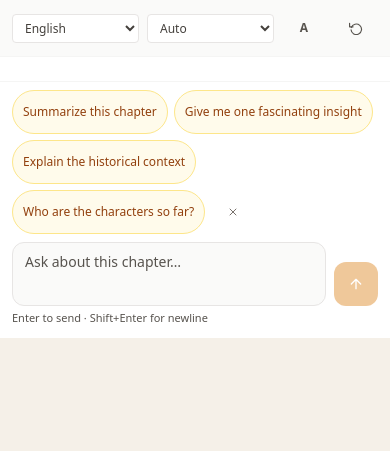
Test: InsightChat — getInsight failure (line 158) › shows an error message in chat when getInsight rejects
This screenshot has width=390, height=451.
Step 1. Click the button titled "Append a fresh insight" → (356,28), box x1=334 y1=6 x2=378 y2=50
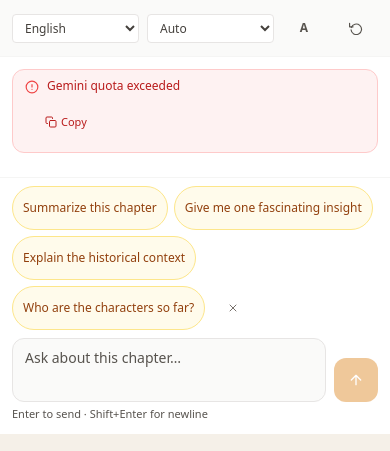
Check: the text "Gemini quota exceeded" is shown, box x1=47 y1=78 x2=180 y2=94
